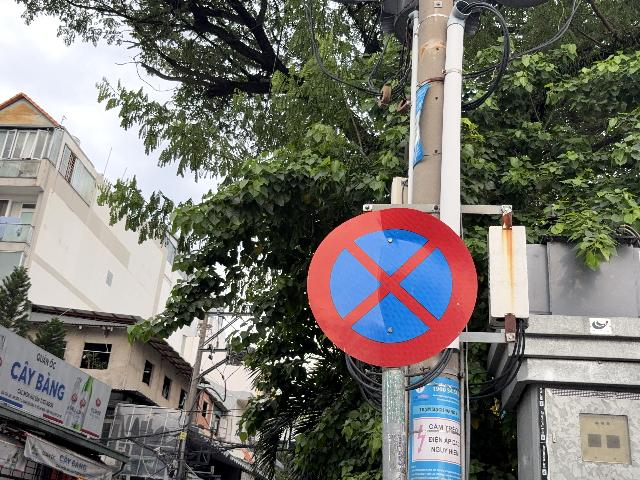cam-dung-va-do-xe: (308, 206, 478, 368)
